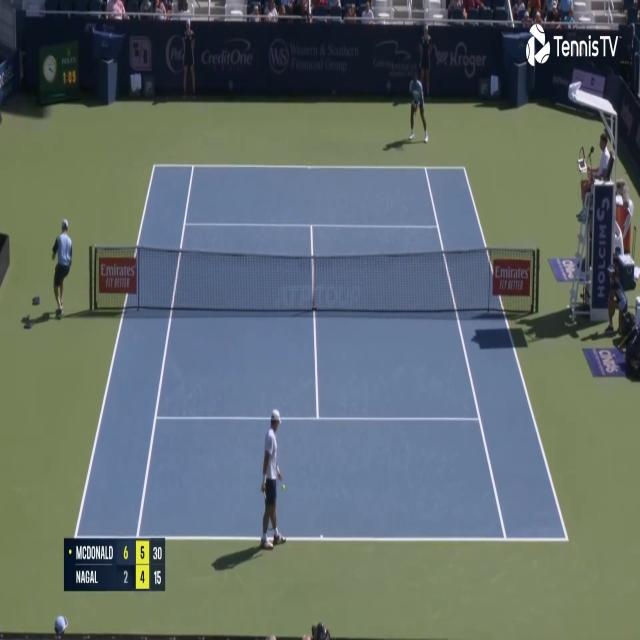tennis-player: (256, 404, 289, 554), (406, 68, 430, 144)
